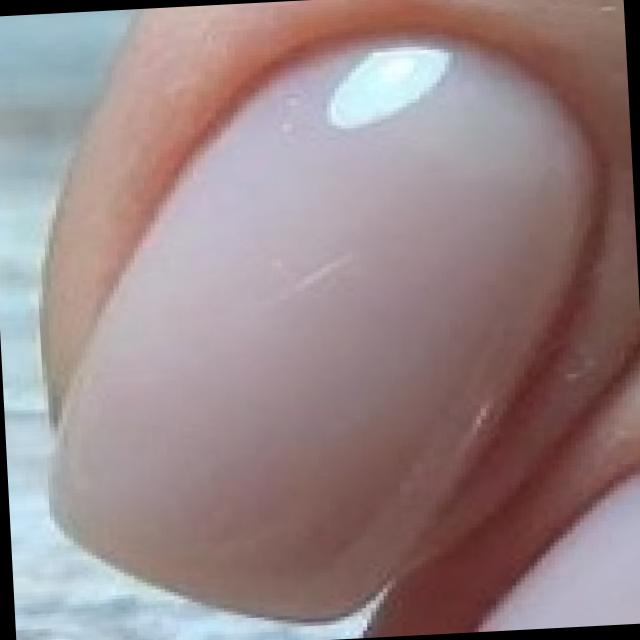Nail: (50, 31, 601, 625)
